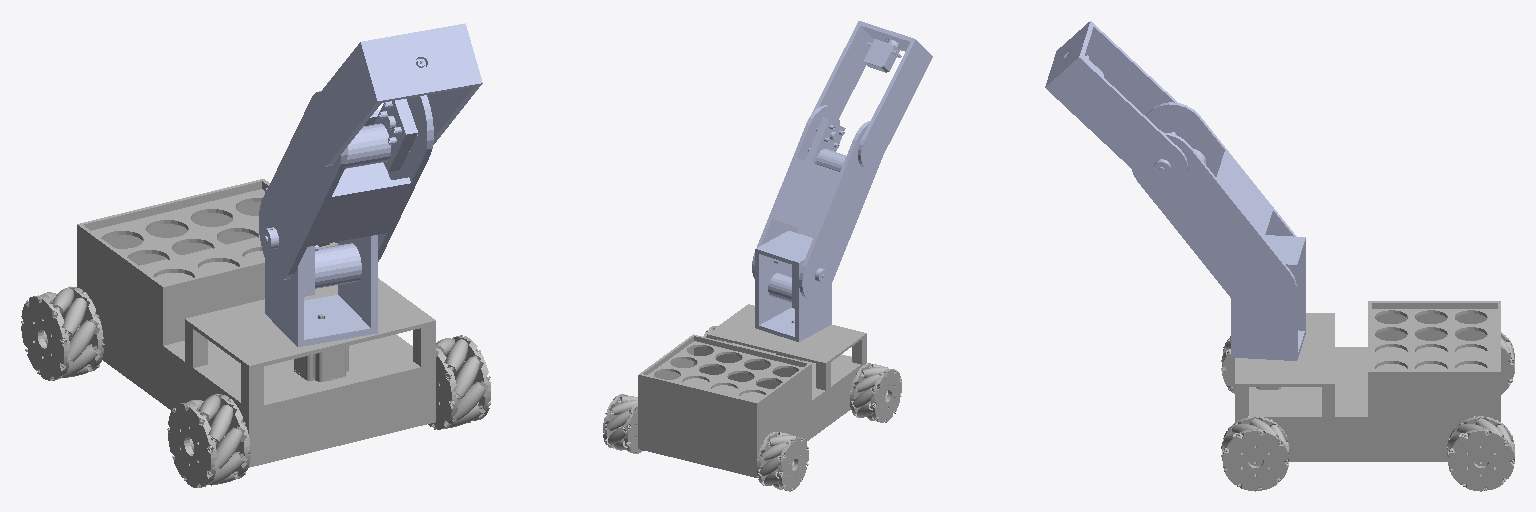
The robot description file, URDF, robot "manipulator_m3_v2":
<?xml version="1.0" encoding="utf-8"?>
<!-- This URDF was automatically created by SolidWorks to URDF Exporter! Originally created by [author] ([email redacted]) 
     Commit Version: 1.6.0-1-g15f4949  Build Version: 1.6.7594.29634
     For more information, please see http://wiki.ros.org/sw_urdf_exporter -->
<robot
  name="manipulator_m3_v2">
  <link
    name="Ground_link">
    <inertial>
      <origin
        xyz="-4.0127E-09 0.15483 0.057349"
        rpy="0 0 0" />
      <mass
        value="3.3464" />
      <inertia
        ixx="0.03432"
        ixy="-3.9352E-10"
        ixz="-3.3678E-10"
        iyy="0.020256"
        iyz="0.0020102"
        izz="0.047369" />
    </inertial>
    <visual>
      <origin
        xyz="0 0 0"
        rpy="0 0 0" />
      <geometry>
        <mesh
          filename="package://manipulator_m3_v2/meshes/Ground_link.STL" />
      </geometry>
      <material
        name="">
        <color
          rgba="0.75294 0.75294 0.75294 1" />
      </material>
    </visual>
    <collision>
      <origin
        xyz="0 0 0"
        rpy="0 0 0" />
      <geometry>
        <mesh
          filename="package://manipulator_m3_v2/meshes/Ground_link.STL" />
      </geometry>
    </collision>
  </link>
  <link
    name="Base_Link">
    <inertial>
      <origin
        xyz="-0.0018252 0.000243 0.081299"
        rpy="0 0 0" />
      <mass
        value="0.58835" />
      <inertia
        ixx="0.0018082"
        ixy="5.0169E-05"
        ixz="5.5023E-05"
        iyy="0.0021784"
        iyz="-7.3253E-06"
        izz="0.0011149" />
    </inertial>
    <visual>
      <origin
        xyz="0 0 0"
        rpy="0 0 0" />
      <geometry>
        <mesh
          filename="package://manipulator_m3_v2/meshes/Base_Link.STL" />
      </geometry>
      <material
        name="">
        <color
          rgba="0.79216 0.81961 0.93333 1" />
      </material>
    </visual>
    <collision>
      <origin
        xyz="0 0 0"
        rpy="0 0 0" />
      <geometry>
        <mesh
          filename="package://manipulator_m3_v2/meshes/Base_Link.STL" />
      </geometry>
    </collision>
  </link>
  <joint
    name="J_1"
    type="continuous">
    <origin
      xyz="0 0 0.135"
      rpy="0 0 0" />
    <parent
      link="Ground_link" />
    <child
      link="Base_Link" />
    <axis
      xyz="0 0 -1" />
    <limit
      lower="0"
      upper="0"
      effort="0"
      velocity="0" />
  </joint>
  <link
    name="Shoulder_Link">
    <inertial>
      <origin
        xyz="0.0025565 -0.086522 0.11272"
        rpy="0 0 0" />
      <mass
        value="0.98781" />
      <inertia
        ixx="0.0060003"
        ixy="3.4501E-05"
        ixz="-4.4949E-05"
        iyy="0.0054162"
        iyz="0.0020295"
        izz="0.0043299" />
    </inertial>
    <visual>
      <origin
        xyz="0 0 0"
        rpy="0 0 0" />
      <geometry>
        <mesh
          filename="package://manipulator_m3_v2/meshes/Shoulder_Link.STL" />
      </geometry>
      <material
        name="">
        <color
          rgba="0.79216 0.81961 0.93333 1" />
      </material>
    </visual>
    <collision>
      <origin
        xyz="0 0 0"
        rpy="0 0 0" />
      <geometry>
        <mesh
          filename="package://manipulator_m3_v2/meshes/Shoulder_Link.STL" />
      </geometry>
    </collision>
  </link>
  <joint
    name="J_2"
    type="continuous">
    <origin
      xyz="0 0 0.12"
      rpy="0 0 -0.13235" />
    <parent
      link="Base_Link" />
    <child
      link="Shoulder_Link" />
    <axis
      xyz="0.99986 0.017021 0" />
    <limit
      lower="0"
      upper="0"
      effort="0"
      velocity="0" />
  </joint>
  <link
    name="Elbow_Link">
    <inertial>
      <origin
        xyz="-0.00049847 -0.084051 0.088254"
        rpy="0 0 0" />
      <mass
        value="0.43553" />
      <inertia
        ixx="0.0023528"
        ixy="-1.1585E-06"
        ixz="1.1151E-06"
        iyy="0.0023426"
        iyz="0.0010074"
        izz="0.0024197" />
    </inertial>
    <visual>
      <origin
        xyz="0 0 0"
        rpy="0 0 0" />
      <geometry>
        <mesh
          filename="package://manipulator_m3_v2/meshes/Elbow_Link.STL" />
      </geometry>
      <material
        name="">
        <color
          rgba="0.79216 0.81961 0.93333 1" />
      </material>
    </visual>
    <collision>
      <origin
        xyz="0 0 0"
        rpy="0 0 0" />
      <geometry>
        <mesh
          filename="package://manipulator_m3_v2/meshes/Elbow_Link.STL" />
      </geometry>
    </collision>
  </link>
  <joint
    name="J_3"
    type="continuous">
    <origin
      xyz="0.0026628 -0.15642 0.195"
      rpy="0 0 0" />
    <parent
      link="Shoulder_Link" />
    <child
      link="Elbow_Link" />
    <axis
      xyz="0.99986 0.017021 0" />
    <limit
      lower="0"
      upper="0"
      effort="0"
      velocity="0" />
  </joint>
</robot>

--- Render facts (derived) ---
Views: 3 orthographic renders of the robot side by side, from view 1: azimuth 30°, elevation 25°; view 2: azimuth 150°, elevation 25°; view 3: azimuth 270°, elevation 25°.
Robot: manipulator_m3_v2 — 4 links, 3 joints (3 continuous); root link Ground_link; default pose: all joints at 0.
Links seen in each view (by area): view 1: Ground_link, Shoulder_Link, Elbow_Link, Base_Link; view 2: Ground_link, Shoulder_Link, Elbow_Link, Base_Link; view 3: Ground_link, Shoulder_Link, Elbow_Link, Base_Link.
Link boxes in pixels (left/top/right/bottom): Ground_link: left=21, top=179, right=490, bottom=487; Shoulder_Link: left=259, top=91, right=433, bottom=279; Elbow_Link: left=306, top=23, right=482, bottom=166; Base_Link: left=264, top=188, right=377, bottom=346; Ground_link: left=603, top=304, right=901, bottom=491; Shoulder_Link: left=752, top=105, right=882, bottom=300; Elbow_Link: left=811, top=21, right=932, bottom=168; Base_Link: left=755, top=231, right=831, bottom=341; Ground_link: left=1221, top=301, right=1514, bottom=491; Shoulder_Link: left=1132, top=102, right=1296, bottom=318; Elbow_Link: left=1045, top=21, right=1187, bottom=188; Base_Link: left=1231, top=235, right=1305, bottom=360.
Bounding box of the posed robot: 0.3791 × 0.7084 × 0.649 m (x, y, z).
4 mesh visuals loaded from 4 distinct referenced files (4 binary STL).